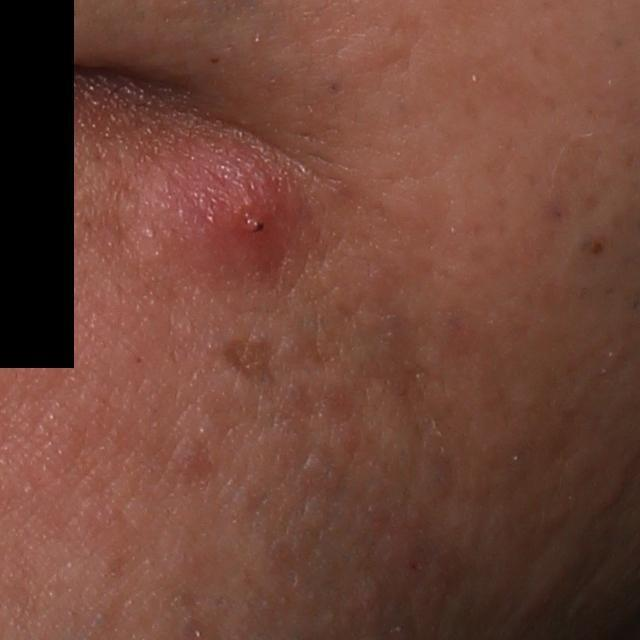atrophic_scar: (221, 338, 273, 389)
papule: (146, 126, 302, 284)
